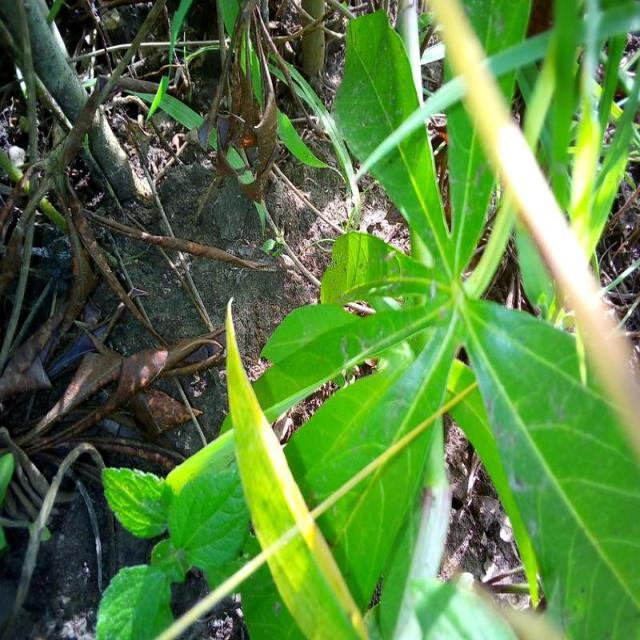cassava leaf: (96, 3, 638, 638), (221, 295, 369, 638)
